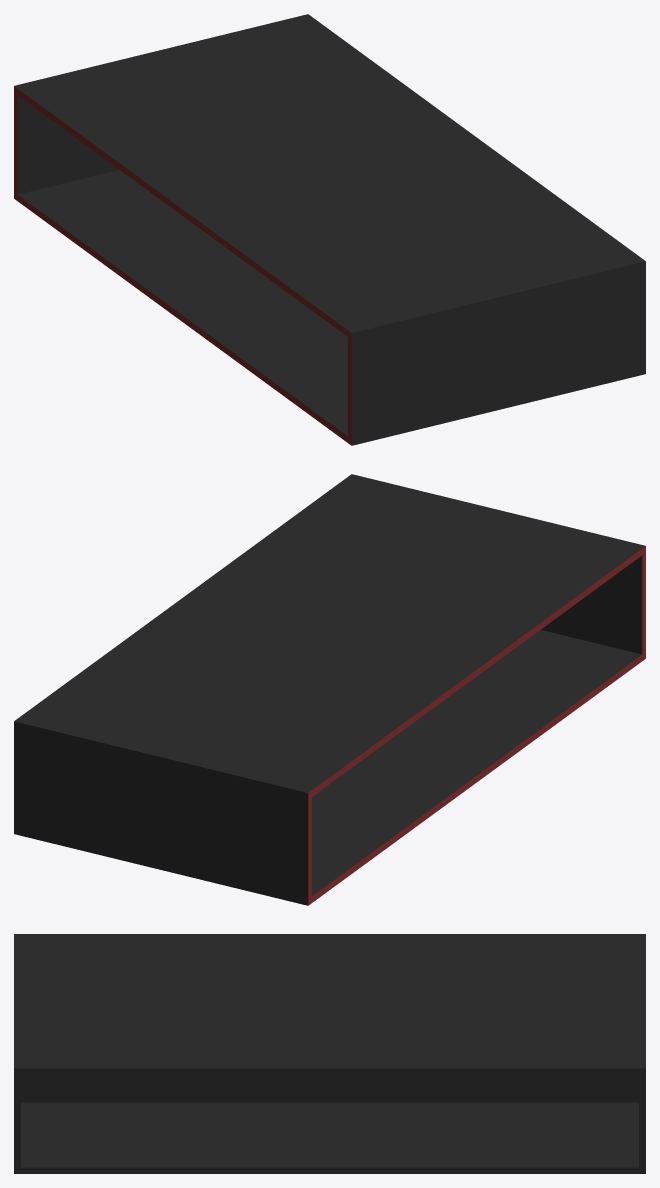
The model's file is Table_10.fbx.
3 views of the same model, one above another, from view 1: azimuth 30°, elevation 25°; view 2: azimuth 150°, elevation 25°; view 3: azimuth 270°, elevation 25° (orthographic). The views are drawn at different scales.
Visible parts, largest first — view 1: Table_10; view 2: Table_10; view 3: Table_10.
Part boxes in pixels (x1,y1,x2,y2): Table_10: (14, 14, 645, 445); Table_10: (14, 474, 645, 905); Table_10: (14, 934, 645, 1173).
Size of the model in its own units: 0.5389 by 0.1974 by 1.07.
